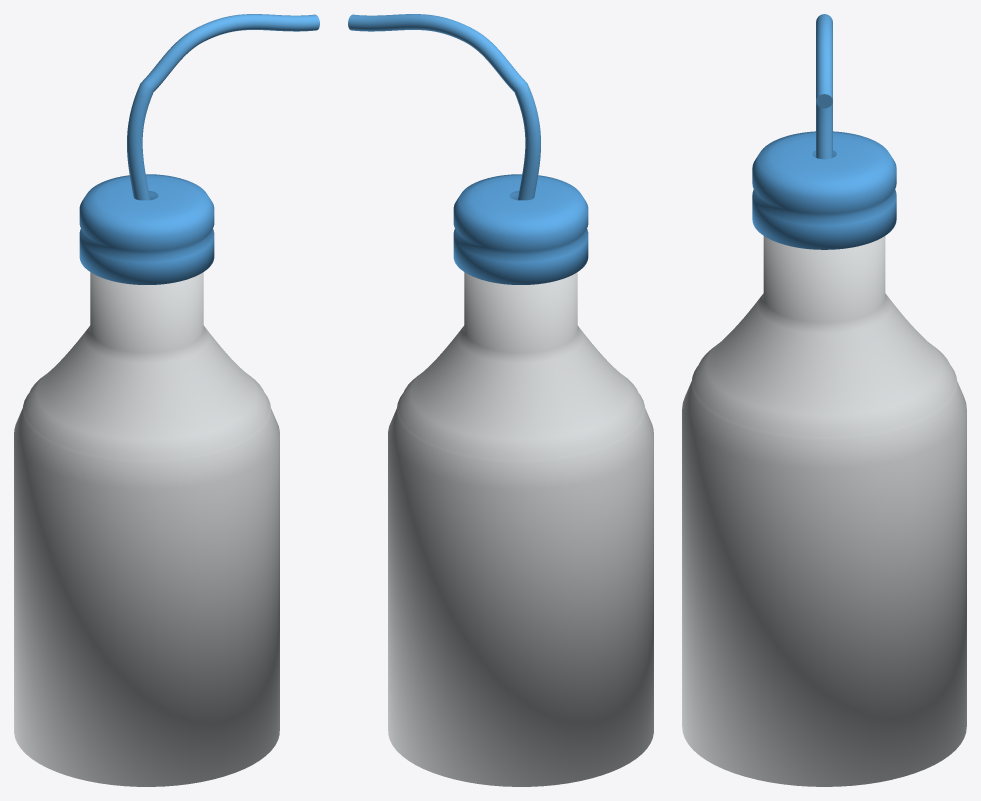
Rendered from akuades.fbx.
3 views of the same model, side by side, from view 1: azimuth 30°, elevation 25°; view 2: azimuth 150°, elevation 25°; view 3: azimuth 270°, elevation 25° (orthographic). The views are drawn at different scales.
Visible parts, largest first — view 1: Botol_Semprot, Tutup_Botol, Pipa_Melengkung; view 2: Botol_Semprot, Tutup_Botol, Pipa_Melengkung; view 3: Botol_Semprot, Tutup_Botol, Pipa_Melengkung.
Part boxes in pixels (x1,y1,x2,y2): Botol_Semprot: (14, 272, 279, 786); Tutup_Botol: (79, 174, 214, 284); Pipa_Melengkung: (127, 14, 319, 200); Botol_Semprot: (388, 272, 653, 786); Tutup_Botol: (453, 174, 588, 284); Pipa_Melengkung: (348, 14, 540, 200); Botol_Semprot: (682, 236, 966, 786); Tutup_Botol: (752, 131, 896, 249); Pipa_Melengkung: (816, 14, 832, 159).
Size of the model in its own units: 186 by 432 by 150.
